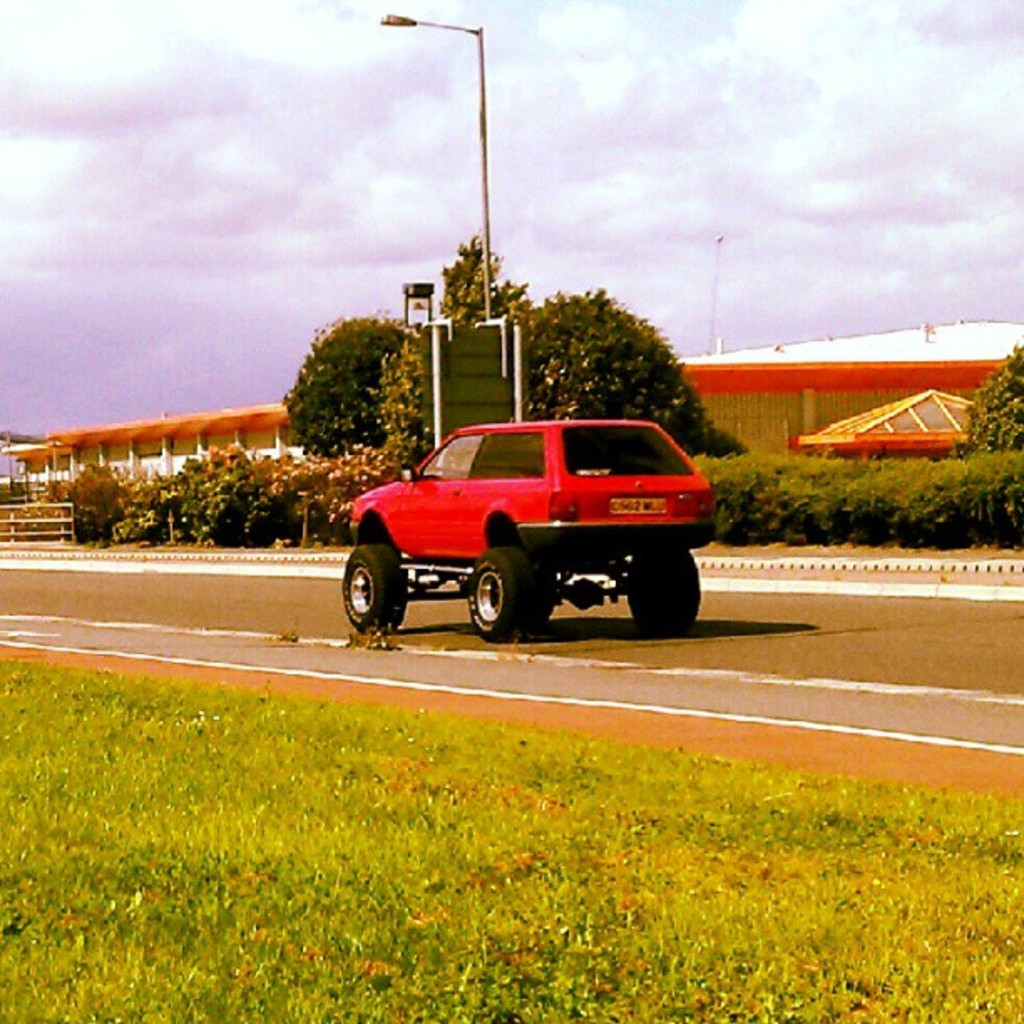Car: (341, 418, 719, 644)
